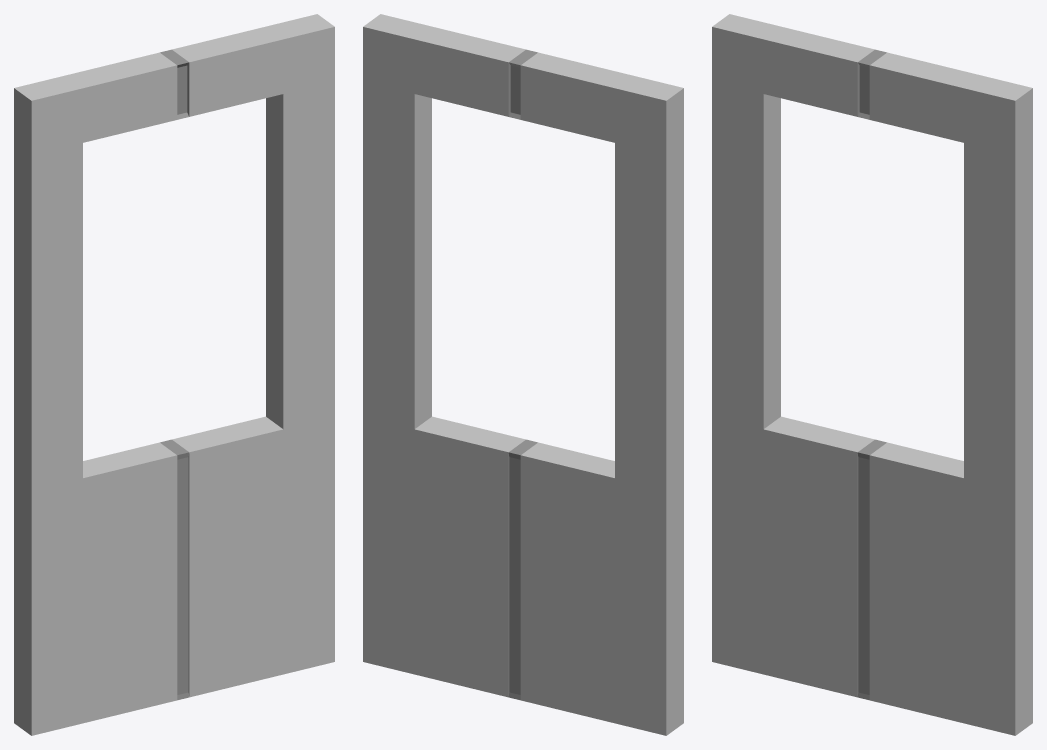
File: ConcreteSmallWindowframe.fbx
3 views of the same model, side by side, from view 1: azimuth 30°, elevation 25°; view 2: azimuth 150°, elevation 25°; view 3: azimuth 330°, elevation 25° (orthographic).
Parts seen in each view (by area): view 1: ConcreteSmallWindowframe; view 2: ConcreteSmallWindowframe; view 3: ConcreteSmallWindowframe.
Part boxes in pixels (<box>): ConcreteSmallWindowframe: <box>14,14,334,735</box>; ConcreteSmallWindowframe: <box>363,14,683,735</box>; ConcreteSmallWindowframe: <box>712,14,1032,735</box>.
Size of the model in its own units: 100 by 200 by 10.
